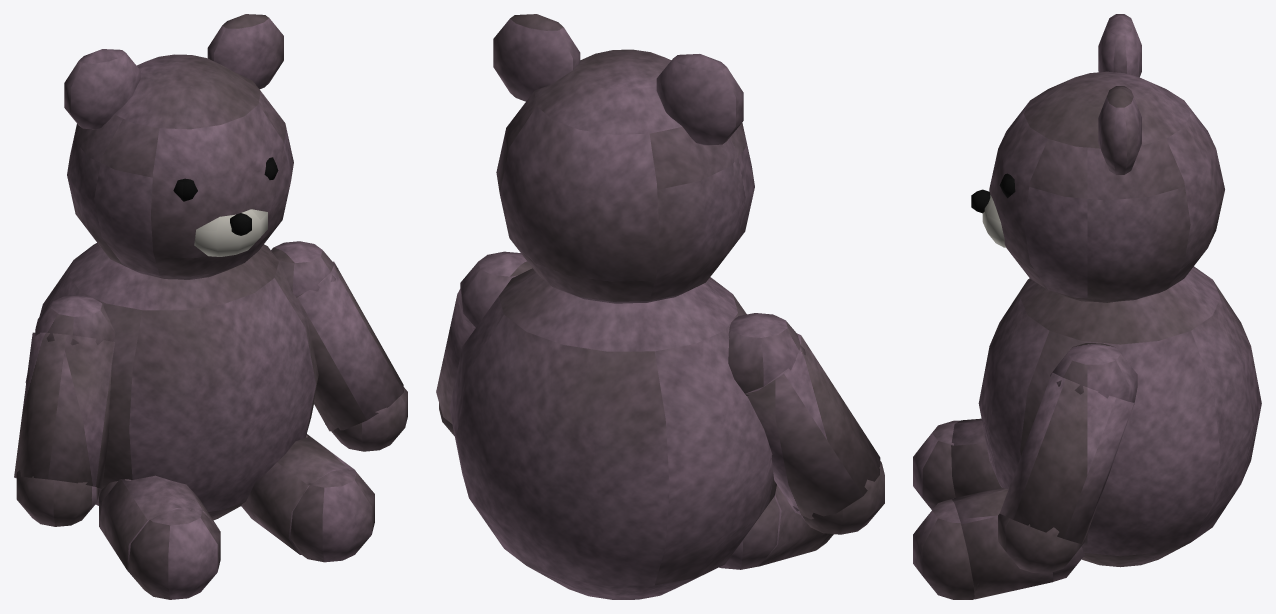
File: TY11_plush_animal_v3.glb
The picture shows the model from 3 angles, left to right: view 1: azimuth 30°, elevation 25°; view 2: azimuth 150°, elevation 25°; view 3: azimuth 270°, elevation 25°; orthographic projection. The views are drawn at different scales.
Parts seen in each view (by area): view 1: TY11_plush_animal_v3; view 2: TY11_plush_animal_v3; view 3: TY11_plush_animal_v3.
Boxes of the visible parts, x1,y1,x2,y2 form: TY11_plush_animal_v3: (14,14,407,599); TY11_plush_animal_v3: (436,14,884,599); TY11_plush_animal_v3: (913,14,1261,599).
Bounding box in the file's own units: 0.3237 × 0.4 × 0.2504.
Materials: 3 (3 with a texture image).
